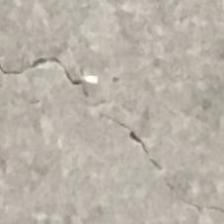Crack: (0, 53, 224, 213)
